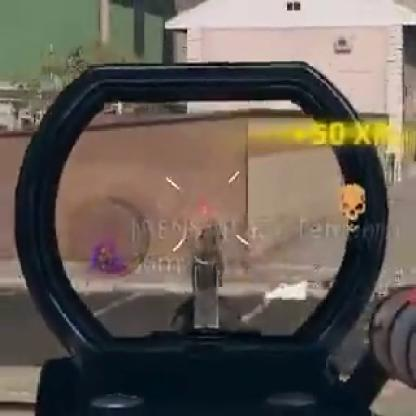enemy: (192, 221, 228, 286)
